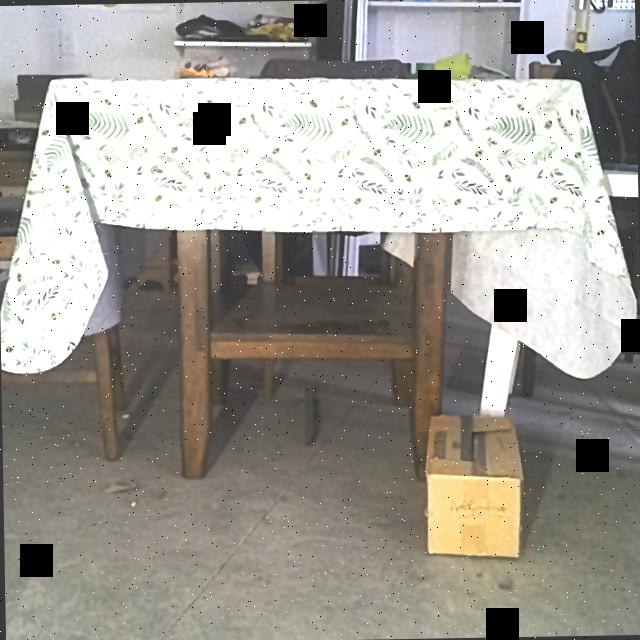box: (427, 474, 520, 556)
